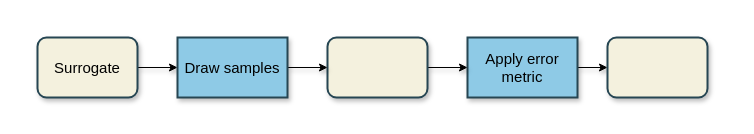
The diagram is 754 pixels wide and 134 high, and some of its shapes have lost their labels. Each missing label, with the centre of its shape:
Evaluation result: point 658,68
Surrogate samples: point 378,68
